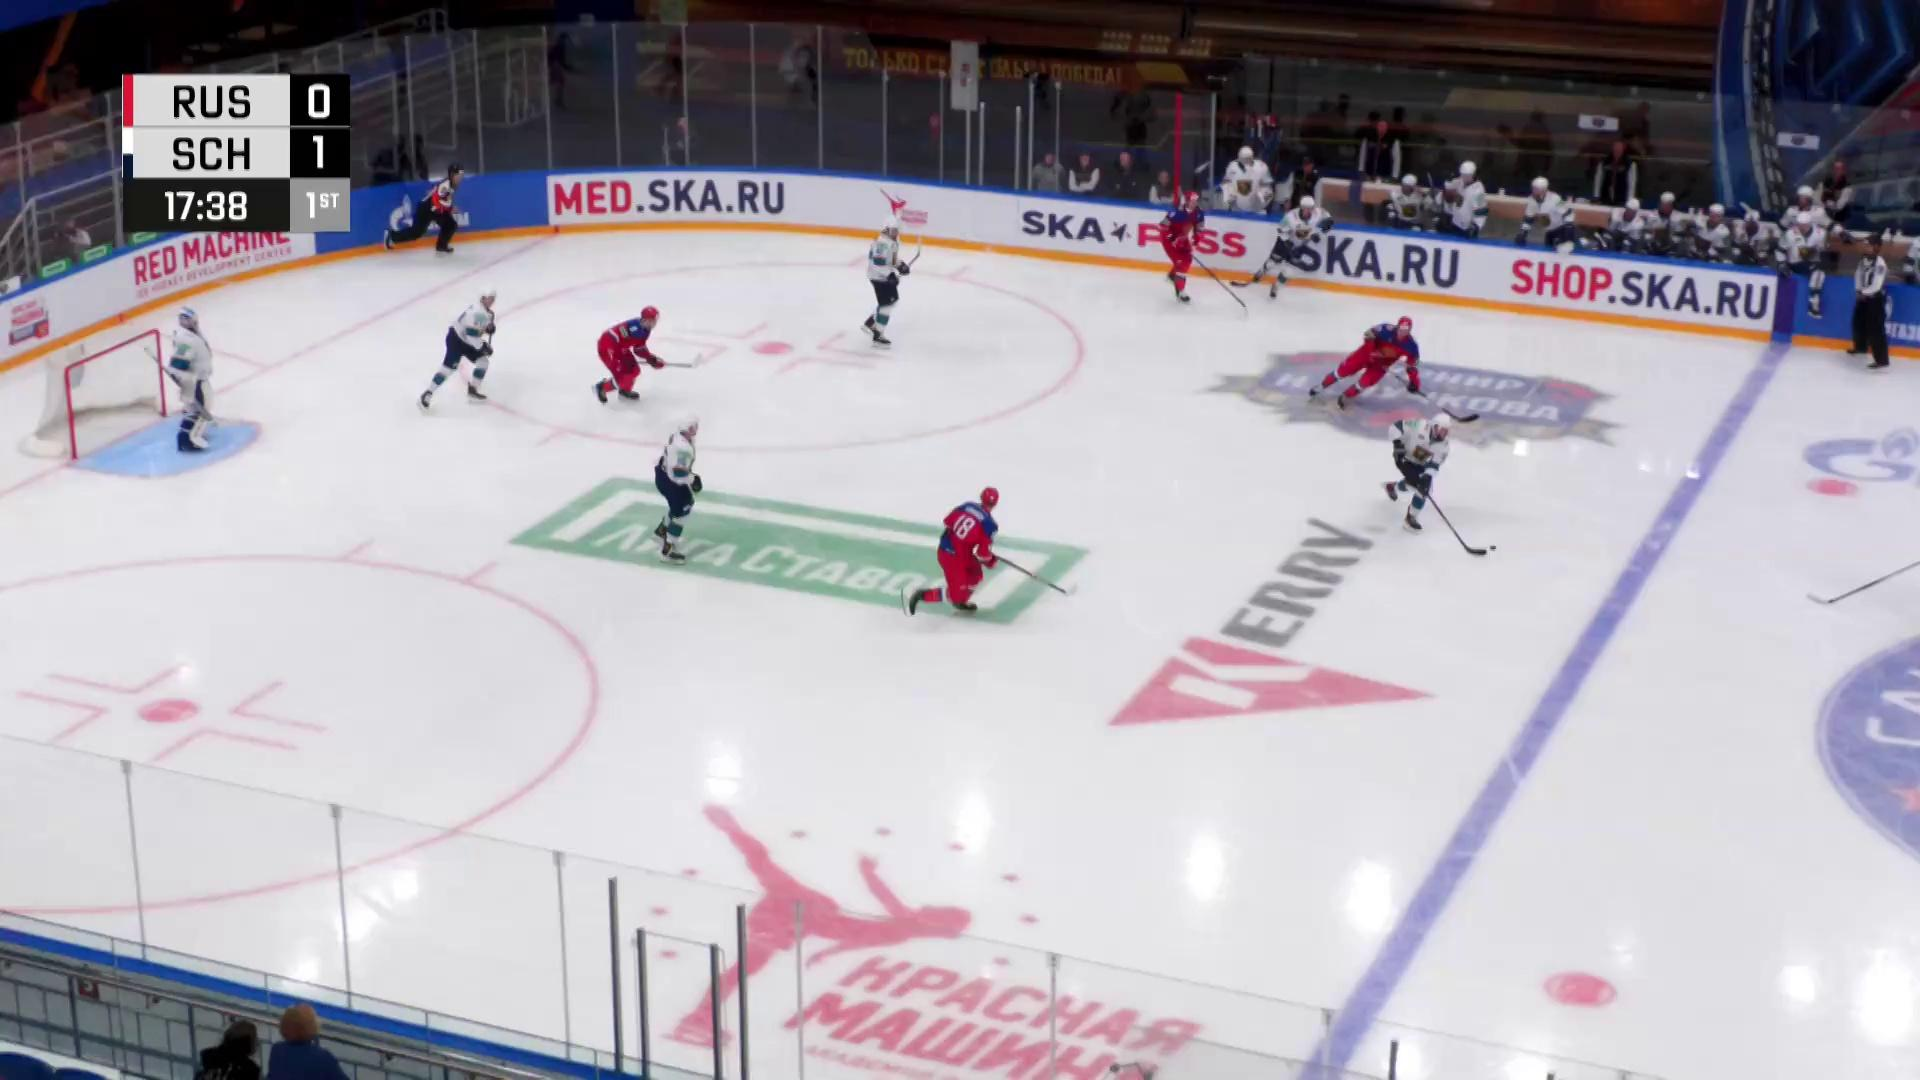ball: (1489, 546, 1497, 551)
